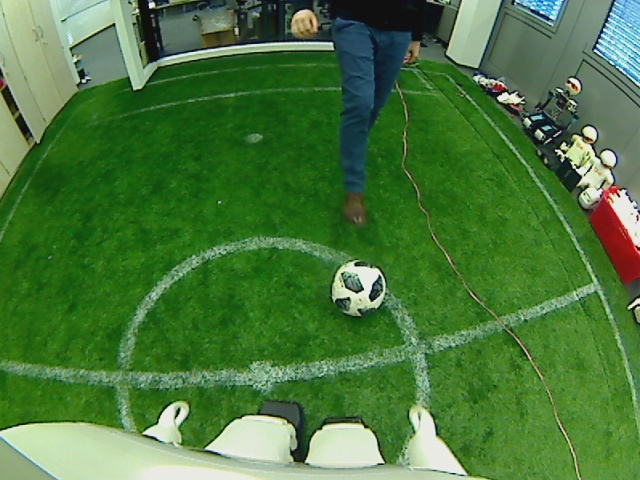ball: (330, 261, 389, 315)
